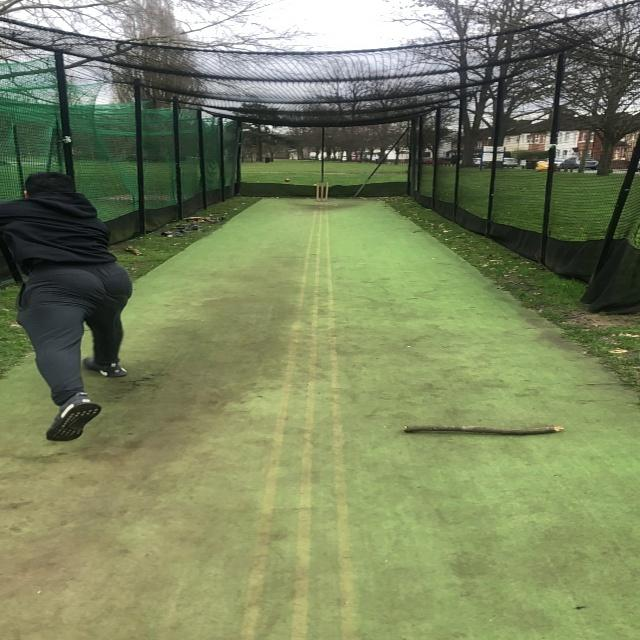ball: (284, 178, 290, 183)
